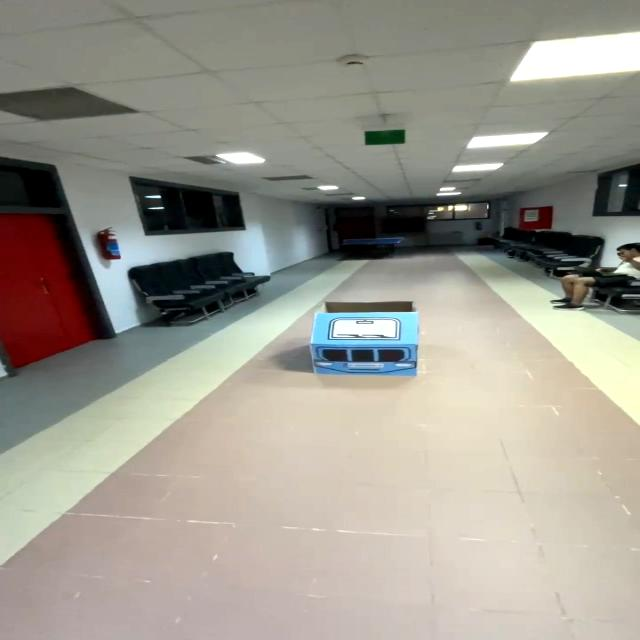blue_car: (286, 288, 452, 385)
